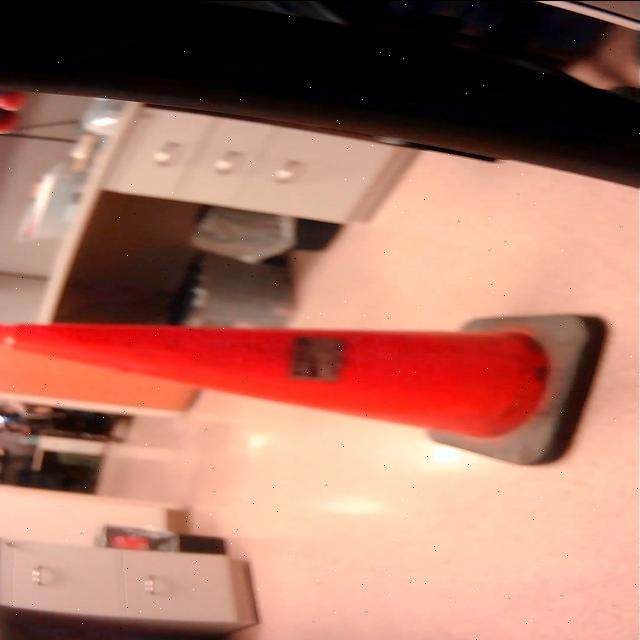traffic cone: (2, 307, 615, 472)
